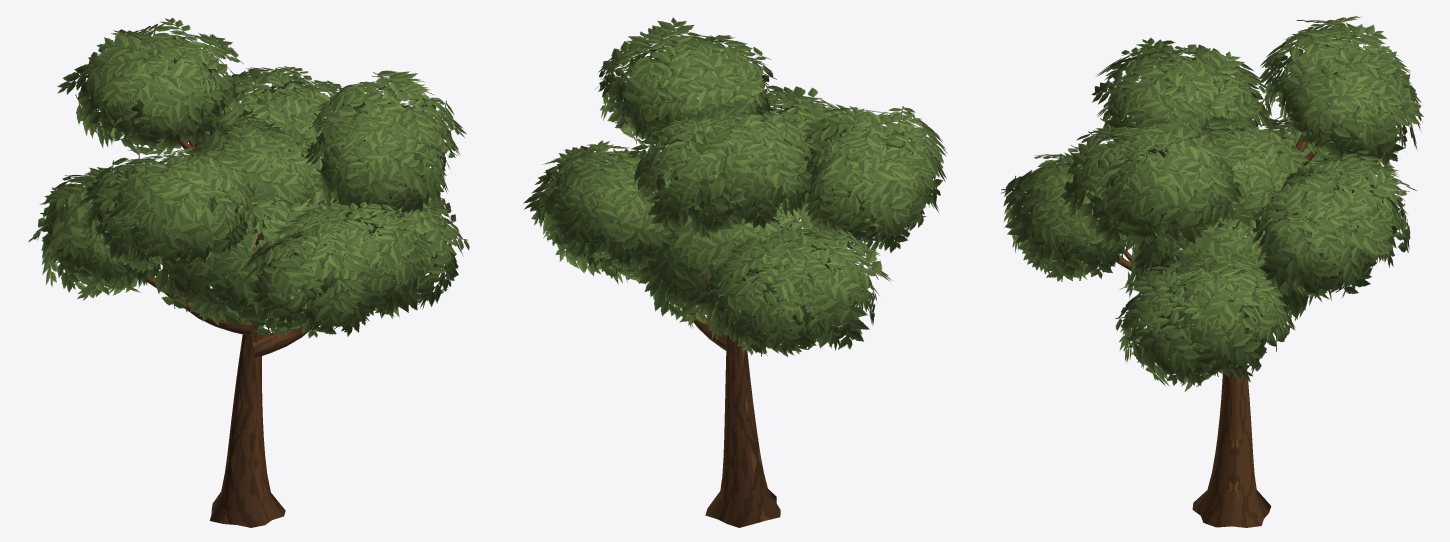
The model's file is oak_broad.glb.
3 renders of one model, left to right at view 1: azimuth 30°, elevation 25°; view 2: azimuth 150°, elevation 25°; view 3: azimuth 270°, elevation 25°, orthographic. The views are drawn at different scales.
Parts seen in each view (by area): view 1: oak_broad; view 2: oak_broad; view 3: oak_broad.
Part boxes in pixels (x1,y1,x2,y2): oak_broad: [28, 17, 469, 527]; oak_broad: [523, 17, 947, 527]; oak_broad: [1001, 16, 1423, 527].
Bounding box in the file's own units: 13.2 × 14.86 × 12.81.
Materials: 2 (2 with a texture image).
